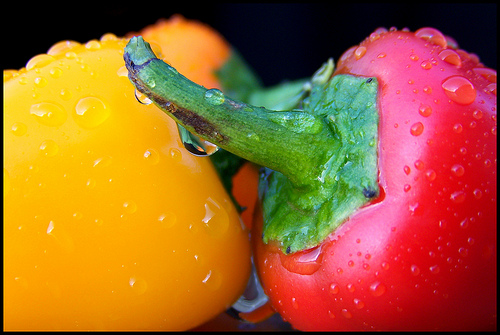capsicum: (124, 27, 499, 334), (2, 14, 316, 333)
